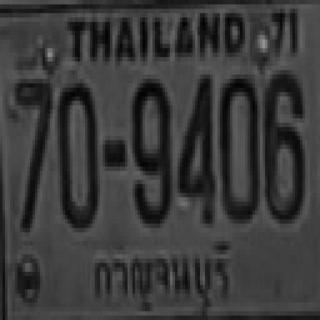N00: (56, 79, 96, 224), (219, 70, 256, 219)
N04: (178, 70, 212, 219)
N06: (262, 66, 302, 219)
N07: (12, 74, 50, 228)
N09: (130, 74, 170, 224)
P17: (86, 239, 239, 320)
